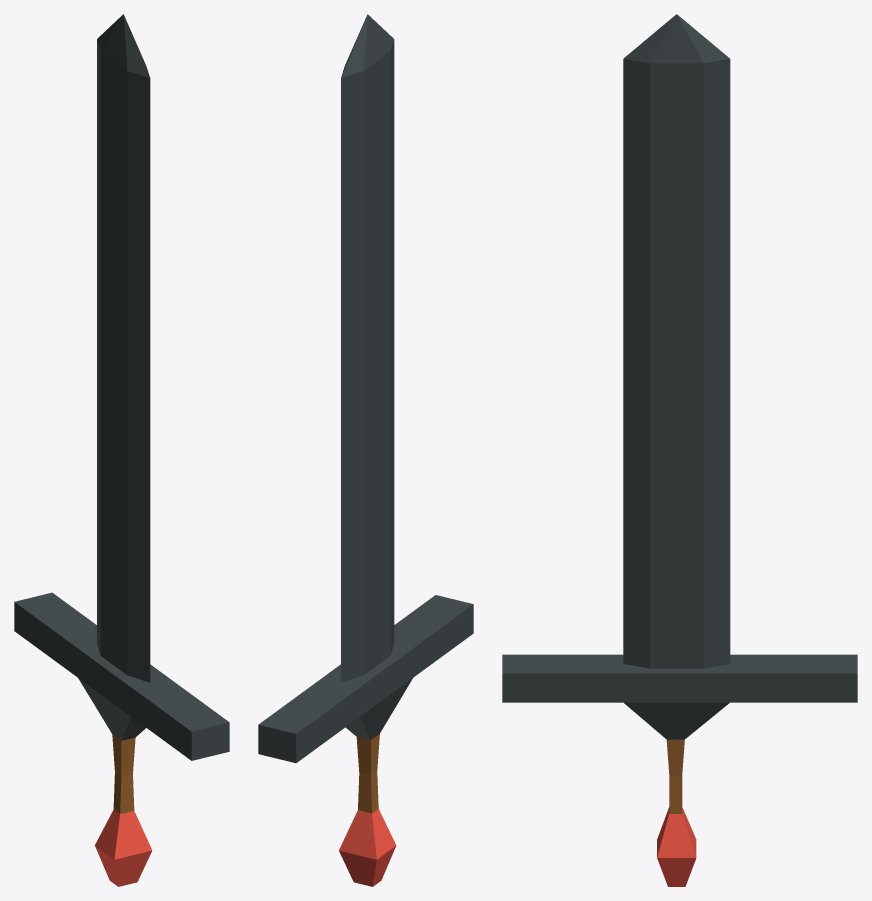
File: small sword.fbx
The picture shows the model from 3 angles, left to right: view 1: azimuth 30°, elevation 25°; view 2: azimuth 150°, elevation 25°; view 3: azimuth 270°, elevation 25°; orthographic projection.
Visible parts, largest first — view 1: Cube; view 2: Cube; view 3: Cube.
Boxes of the visible parts, x1,y1,x2,y2 form: Cube: [14, 14, 229, 886]; Cube: [258, 14, 473, 886]; Cube: [502, 14, 857, 886].
Bounding box in the file's own units: 200 × 4360 × 1617.
